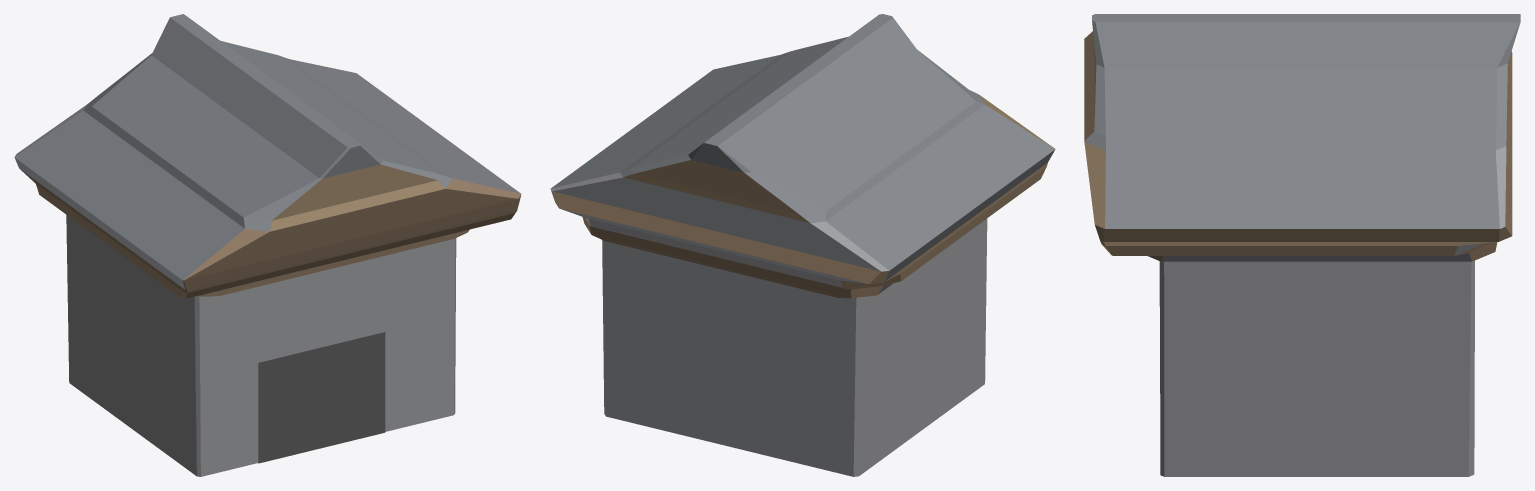
The model's file is loin.glb.
The picture shows the model from 3 angles, left to right: view 1: azimuth 30°, elevation 25°; view 2: azimuth 150°, elevation 25°; view 3: azimuth 270°, elevation 25°; orthographic projection. The views are drawn at different scales.
Visible parts, largest first — view 1: loin; view 2: loin; view 3: loin.
Part boxes in pixels (box(x1,y1,x2,y2)): loin: box(14, 14, 521, 476); loin: box(550, 14, 1055, 476); loin: box(1084, 14, 1520, 476).
Bounding box in the file's own units: 0.9937 × 0.8874 × 0.9158.
